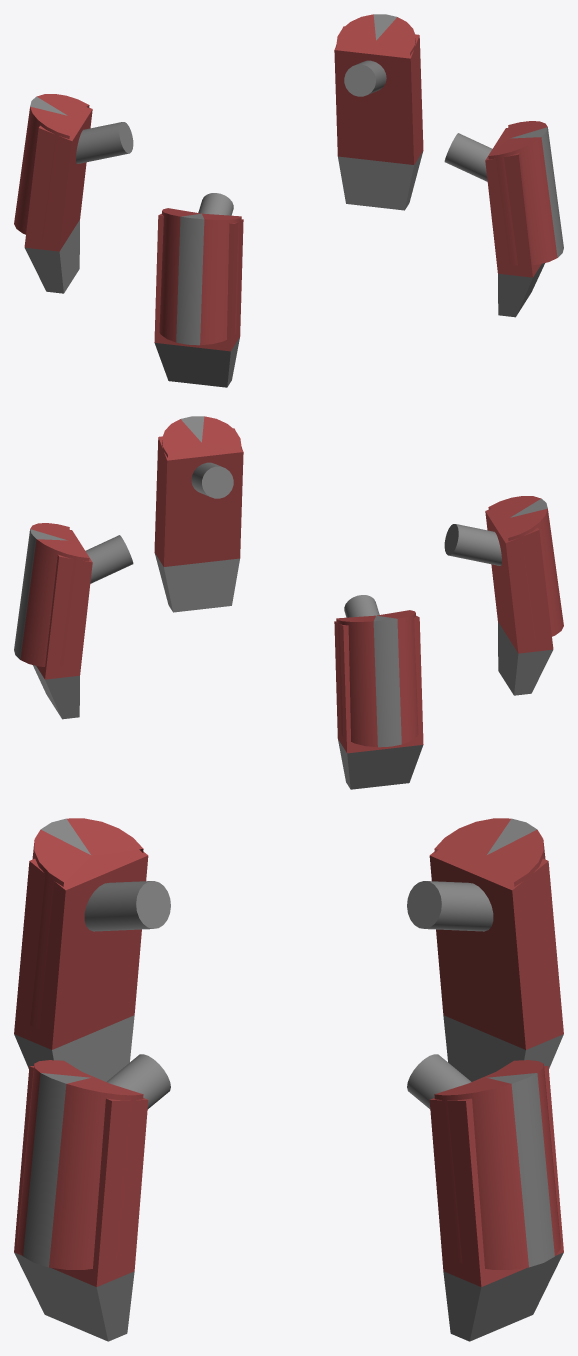
File: Clawie_Legs.fbx
3 views of the same model, one above another, from view 1: azimuth 30°, elevation 25°; view 2: azimuth 150°, elevation 25°; view 3: azimuth 270°, elevation 25° (orthographic). The views are drawn at different scales.
Visible parts, largest first — view 1: Leg_Main_Body (×4), Leg_Outer_Casing (×4), Leg_Joint (×4); view 2: Leg_Main_Body (×4), Leg_Outer_Casing (×4), Leg_Joint (×4); view 3: Leg_Main_Body (×4), Leg_Outer_Casing (×4), Leg_Joint (×4).
Part boxes in pixels (x1,y1,x2,y2): Leg_Main_Body (×4): (24,26,544,387); Leg_Outer_Casing (×4): (14,14,563,345); Leg_Joint (×4): (76,60,492,215); Leg_Main_Body (×4): (33,428,553,789); Leg_Outer_Casing (×4): (14,416,563,747); Leg_Joint (×4): (85,462,501,617); Leg_Main_Body (×4): (14,849,563,1341); Leg_Outer_Casing (×4): (17,818,560,1269); Leg_Joint (×4): (84,881,493,1109).
Bounding box in the file's own units: 2.59 × 1.09 × 2.09.
